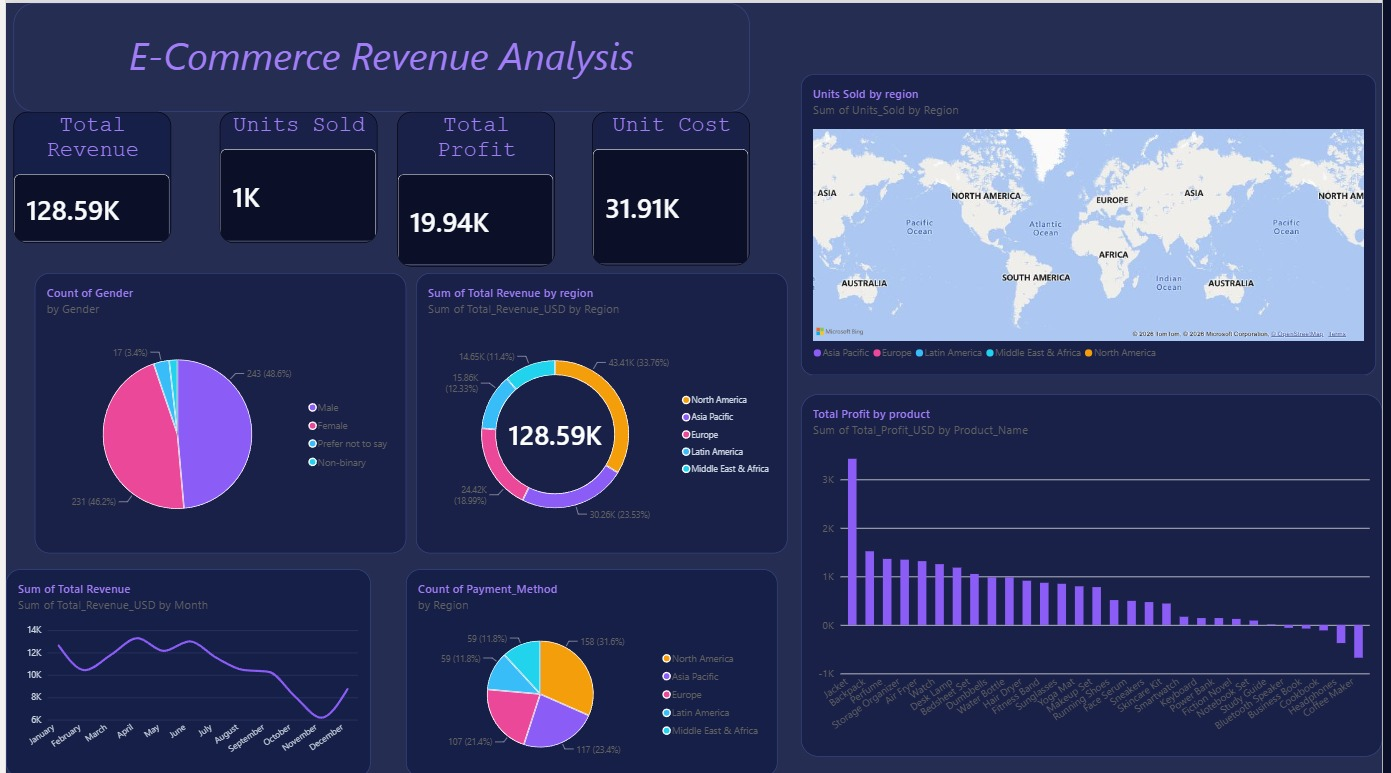

What the dashboard file says about the page in this screenshot:
{"tool":"powerbi","page":{"name":"Page 1","canvas":[1920,1080],"ordinal":0},"visuals":[{"type":"textbox","box":[10.5,0,1027.3,151.7],"z":0},{"type":"cardVisual","title":"Total Revenue","fields":{"Data":["Sum(Ecommerce_500_Rows_PowerBI_Ready.Total_Revenue_USD)"]},"box":[10.5,151.7,219.8,183.1],"z":1000},{"type":"cardVisual","title":"Units Sold","fields":{"Data":["Sum(Ecommerce_500_Rows_PowerBI_Ready.Units_Sold)"]},"box":[298.3,151.7,219.8,183.1],"z":2000},{"type":"cardVisual","title":"Total Profit","fields":{"Data":["Sum(Ecommerce_500_Rows_PowerBI_Ready.Total_Profit_USD)"]},"box":[545.9,151.7,219.8,216.3],"z":3000},{"type":"lineChart","title":"Sum of Total Revenue","fields":{"Category":["Ecommerce_500_Rows_PowerBI_Ready.Order_Date.Variation.Date Hierarchy.Month"],"Y":["Sum(Ecommerce_500_Rows_PowerBI_Ready.Total_Revenue_USD)"]},"box":[0,790.4,508.4,290.2],"z":4000},{"type":"cardVisual","title":"Unit Cost","fields":{"Data":["Sum(Ecommerce_500_Rows_PowerBI_Ready.Unit_Cost_USD)"]},"box":[818,151.7,219.8,214.5],"z":5000},{"type":"donutChart","title":"Sum of Total Revenue by region","fields":{"Category":["Ecommerce_500_Rows_PowerBI_Ready.Region"],"Y":["Sum(Ecommerce_500_Rows_PowerBI_Ready.Total_Revenue_USD)"]},"box":[572.2,376.7,518.7,391.1],"z":6000},{"type":"clusteredColumnChart","title":"Total Profit by product","fields":{"Category":["Ecommerce_500_Rows_PowerBI_Ready.Product_Name"],"Y":["Sum(Ecommerce_500_Rows_PowerBI_Ready.Total_Profit_USD)"]},"box":[1109.3,545.9,811,505.8],"z":7000},{"type":"map","title":"Units Sold by region","fields":{"Series":["Ecommerce_500_Rows_PowerBI_Ready.Region"],"Size":["Sum(Ecommerce_500_Rows_PowerBI_Ready.Units_Sold)"]},"box":[1109.3,99.4,802.7,419.9],"z":8000},{"type":"pieChart","fields":{"Category":["Ecommerce_500_Rows_PowerBI_Ready.Gender"],"Y":["CountNonNull(Ecommerce_500_Rows_PowerBI_Ready.Gender)"]},"box":[40.1,376.7,518.7,391.1],"z":9000},{"type":"pieChart","fields":{"Category":["Ecommerce_500_Rows_PowerBI_Ready.Region"],"Y":["CountNonNull(Ecommerce_500_Rows_PowerBI_Ready.Payment_Method)"]},"box":[558.1,790.1,518,289.5],"z":10000}]}

Visuals, with their boxes in screenshot pixels (x1, y1, x2, y2), scaled from the page's 1920x1080 canvas onto the 1391x773 screenshot:
textbox: locate(8, 0, 752, 109)
"Total Revenue" cardVisual: locate(8, 109, 167, 240)
"Units Sold" cardVisual: locate(216, 109, 375, 240)
"Total Profit" cardVisual: locate(395, 109, 555, 263)
"Sum of Total Revenue" lineChart: locate(0, 566, 368, 772)
"Unit Cost" cardVisual: locate(593, 109, 752, 262)
"Sum of Total Revenue by region" donutChart: locate(415, 270, 790, 550)
"Total Profit by product" clusteredColumnChart: locate(804, 391, 1390, 753)
"Units Sold by region" map: locate(804, 71, 1385, 372)
pieChart - Ecommerce_500_Rows_PowerBI_Ready.Gender x CountNonNull(Ecommerce_500_Rows_PowerBI_Ready.Gender): locate(29, 270, 405, 550)
pieChart - Ecommerce_500_Rows_PowerBI_Ready.Region x CountNonNull(Ecommerce_500_Rows_PowerBI_Ready.Payment_Method): locate(404, 566, 780, 772)
